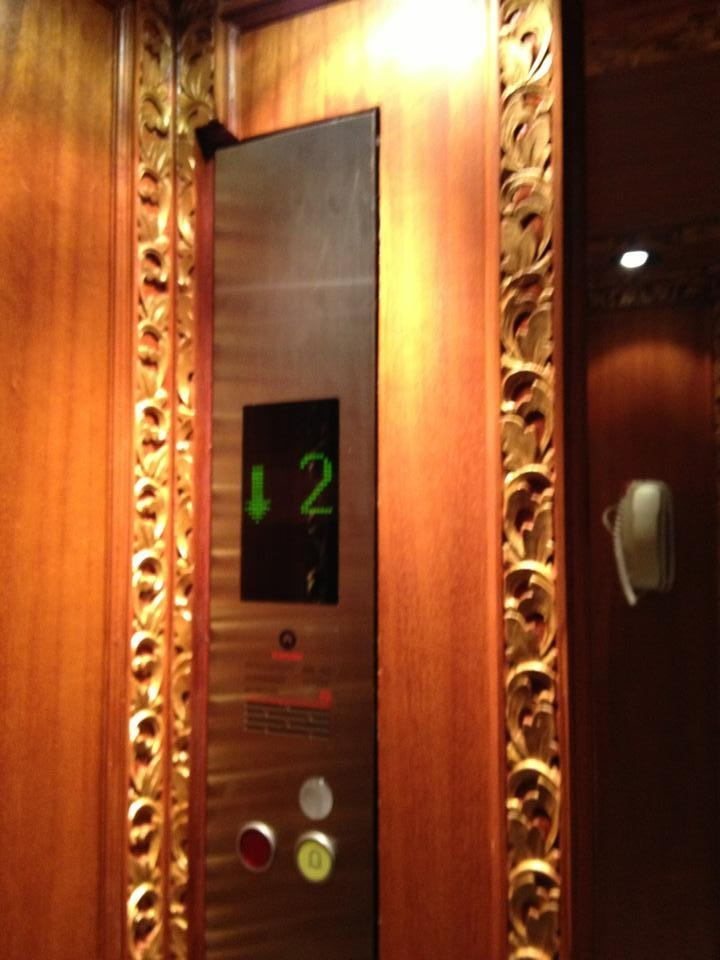alarm: (294, 830, 337, 884)
empty: (235, 821, 276, 874), (296, 775, 335, 822)
led: (238, 395, 346, 610)
